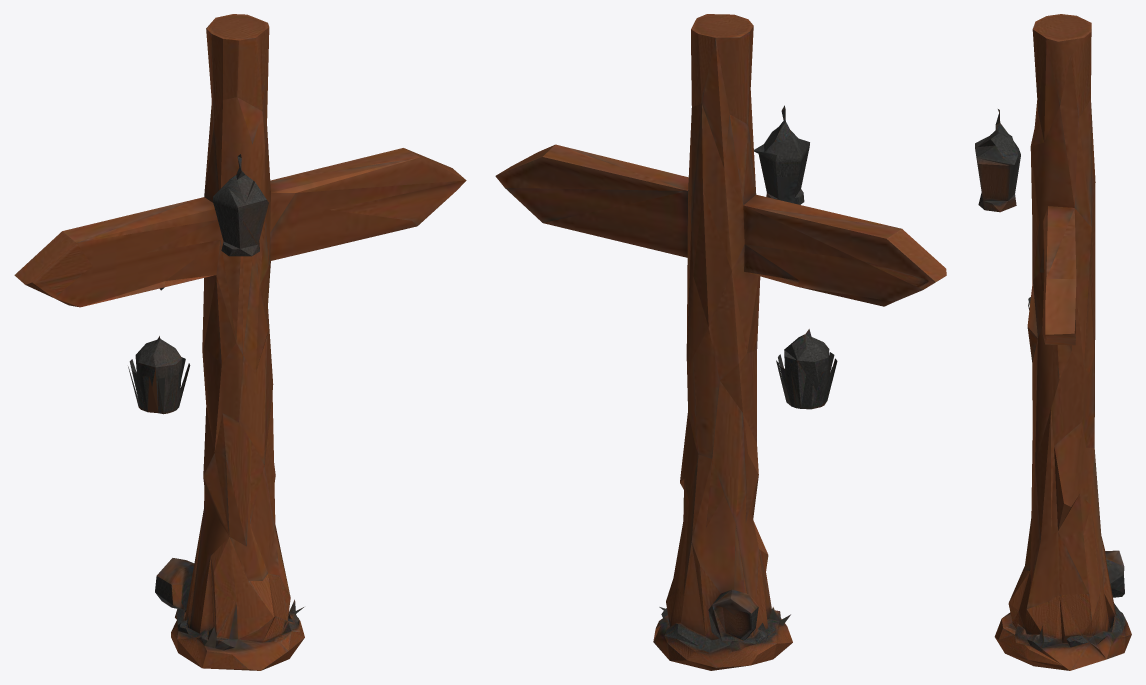
The model's file is signpost.glb.
The picture shows the model from 3 angles, left to right: view 1: azimuth 30°, elevation 25°; view 2: azimuth 150°, elevation 25°; view 3: azimuth 270°, elevation 25°; orthographic projection.
Size of the model in its own units: 1.41 by 1.9 by 0.4379.
1 material, 1 textured.
